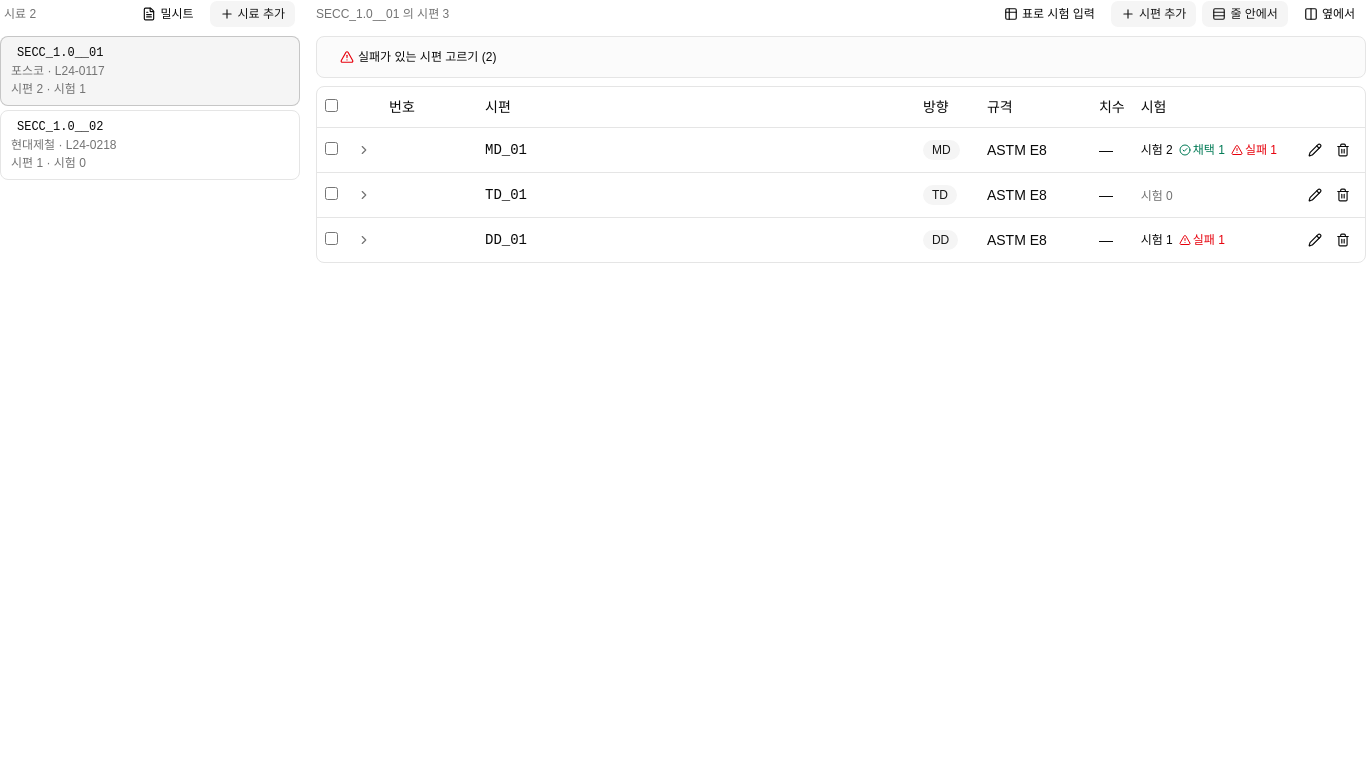
Scenario: 시편 골라 지우기 (2026-10-20) › 「실패가 있는 시편 고르기」 가 실패한 시편만 고르고, 고른 것을 함께 지운다
Expected: the text "MD_01" is shown, x1=485 y1=142 x2=527 y2=158
Click the button "실패가 있는 시편 고르기 (2)" at (418, 57), box x1=329 y1=43 x2=507 y2=71
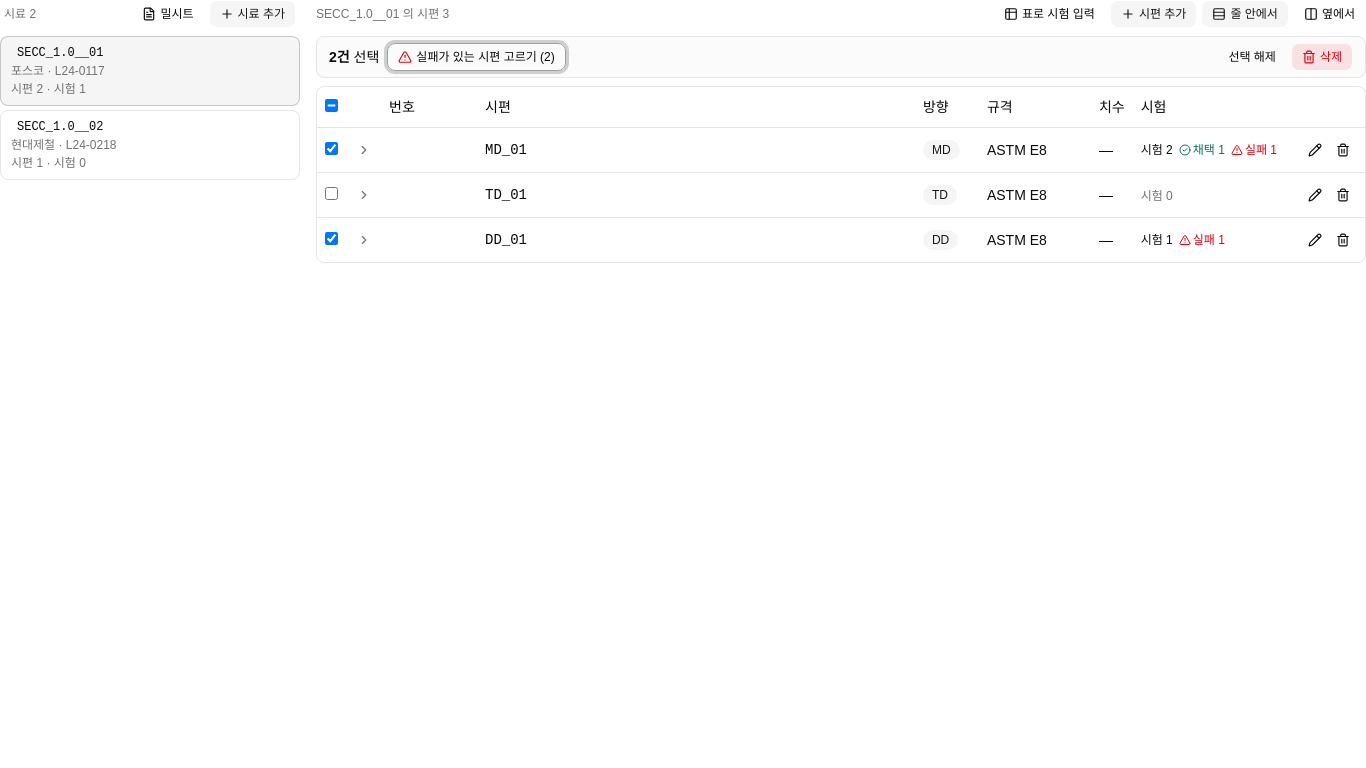
Expected: the checkbox named "MD_01 선택" is checked, x1=325 y1=142 x2=338 y2=154
Expected: the checkbox named "DD_01 선택" is checked, x1=325 y1=232 x2=338 y2=244
Expected: the text "2건" is shown, x1=329 y1=49 x2=350 y2=65
Click the button "삭제" at (1322, 57), box x1=1291 y1=43 x2=1353 y2=71
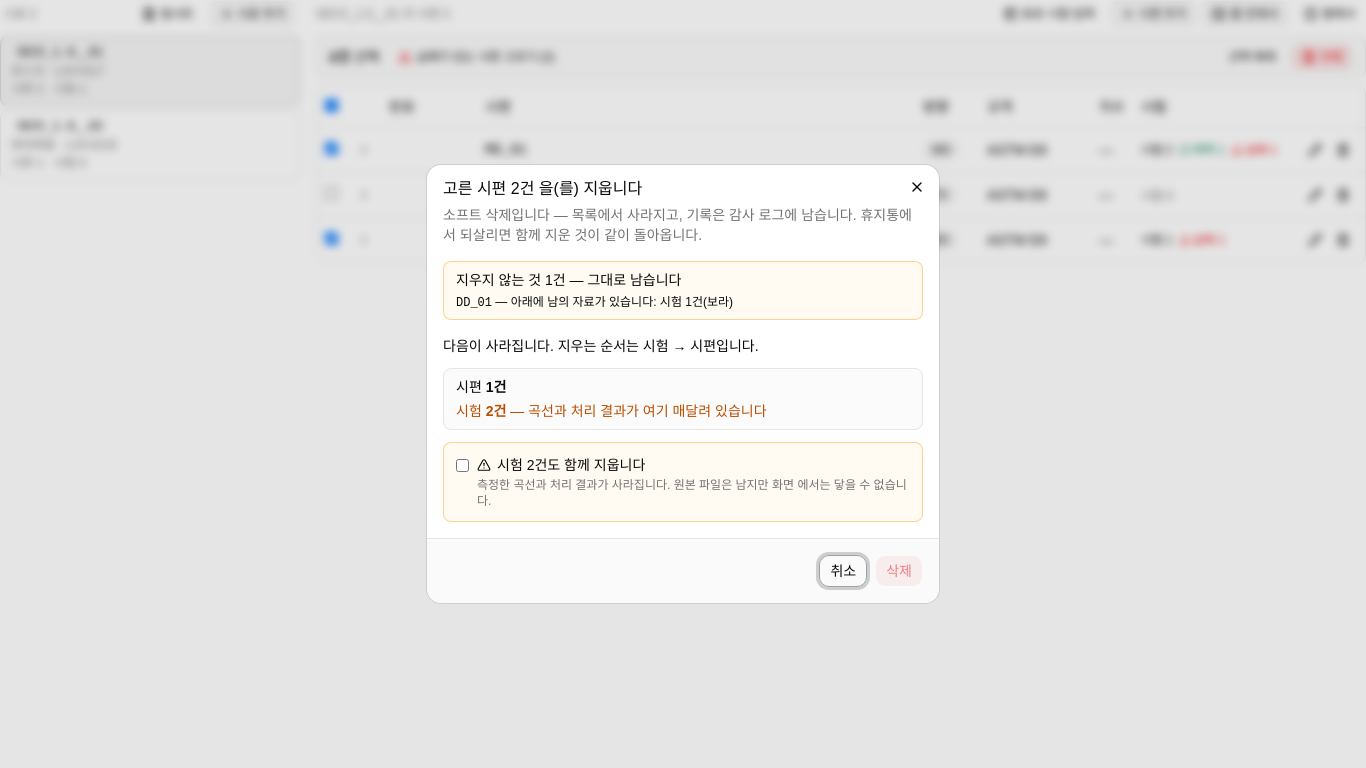
Expected: the text "지우지 않는 것 1건 — 그대로 남습니다" is shown, x1=456 y1=272 x2=682 y2=288
Expected: the dialog shows "시험 1건(보라)", x1=511 y1=295 x2=733 y2=309
Expected: the dialog shows "고른 시편 2건", x1=443 y1=180 x2=534 y2=197
Click the checkbox at (462, 466), box x1=456 y1=459 x2=469 y2=472
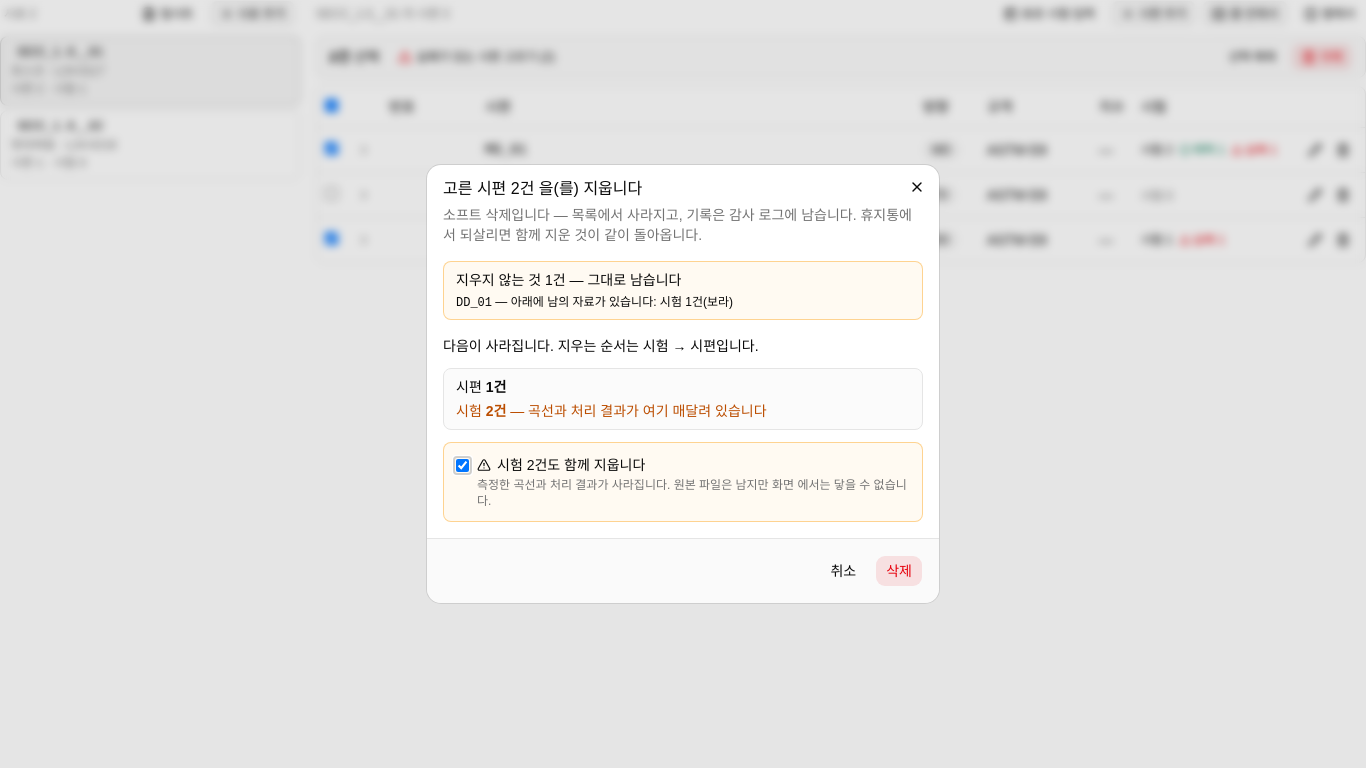
Click the button "삭제" at (899, 571), box x1=875 y1=555 x2=923 y2=587
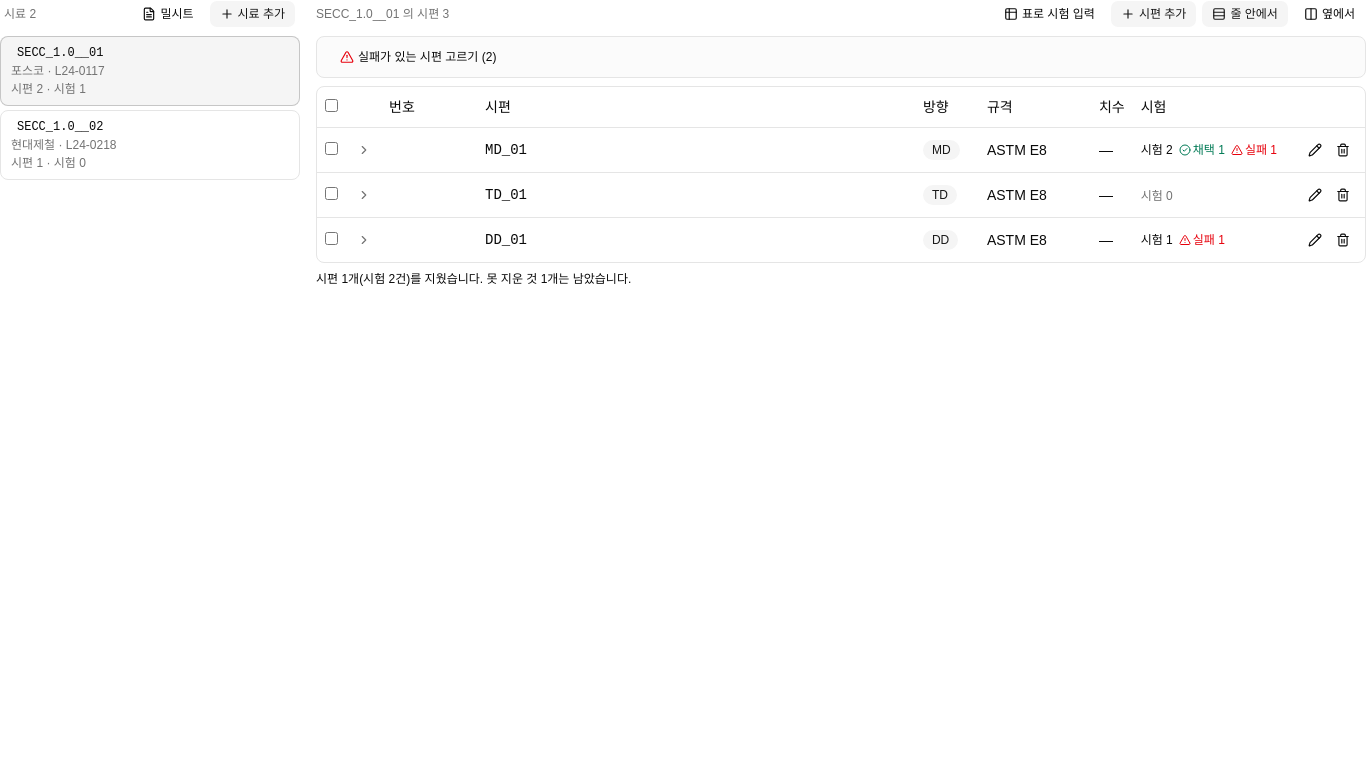
Expected: the text "시편 1개(시험 2건)를 지웠습니다. 못 지운 것 1개는 남았습니다." is shown, x1=316 y1=272 x2=631 y2=286
